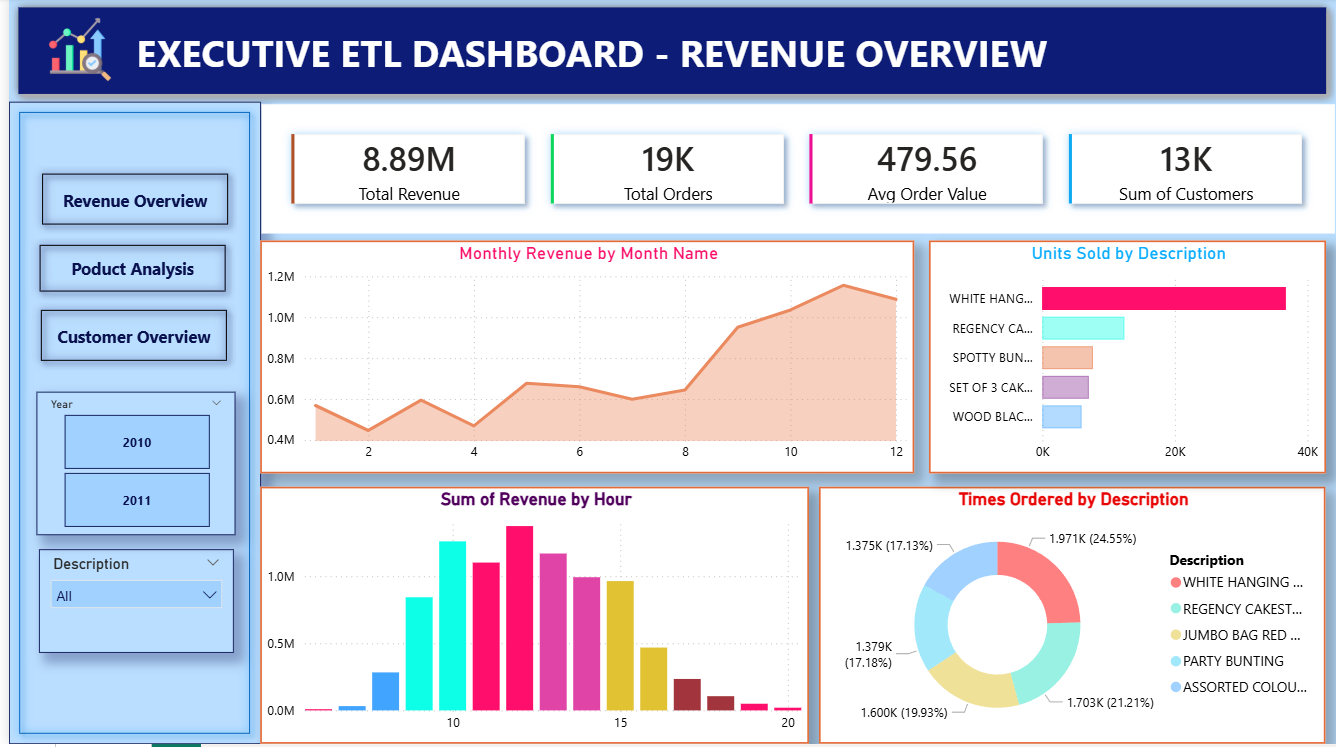

What the dashboard file says about the page in this screenshot:
{"tool":"powerbi","page":{"name":"Page 1","canvas":[1280,720],"ordinal":0},"visuals":[{"type":"shape","box":[0,100.2,242.9,620.2],"z":0},{"type":"shape","box":[0,0,1280.3,101.6],"z":1000},{"type":"cardVisual","fields":{"Data":["Q1_Monthly.Total Revenue","Q1_Monthly.Total Orders","Q1_Monthly.Avg Order Value","Sum(Q1_Monthly.Customers)"]},"box":[243.2,102.3,1036.4,125],"z":2000},{"type":"areaChart","title":" Monthly Revenue by Month Name","fields":{"Category":["Q1_Monthly.Month"],"Y":["Sum(Q1_Monthly.Monthly_Revenue)"]},"box":[242.9,234.6,631.2,225],"z":3000},{"type":"clusteredColumnChart","fields":{"Y":["Sum(Q5_Hourly.Revenue)"],"Category":["Q5_Hourly.Hour"]},"box":[242.9,472,529.7,248.4],"z":4000},{"type":"donutChart","title":" Times Ordered by Description","fields":{"Category":["Q3_Products.Description"],"Y":["Sum(Q3_Products.Times_Ordered)"]},"box":[782.2,472,488.5,248.4],"z":5000},{"type":"clusteredBarChart","title":"Units Sold by Description","fields":{"Category":["Q3_Products.Description"],"Y":["Sum(Q3_Products.Units_Sold)"]},"box":[887.8,234.6,382.8,225],"z":6000},{"type":"shape","box":[23.3,160.5,197.6,67.2],"z":7000},{"type":"shape","box":[20.6,229.2,197.6,63.1],"z":8000},{"type":"shape","box":[22,292.3,197.6,67.2],"z":9000},{"type":"shape","box":[123.5,19.2,964.7,64.5],"z":10000},{"type":"slicer","fields":{"Values":["Q1_Monthly.Year"]},"box":[26.1,380.1,192.1,138.6],"z":11000},{"type":"slicer","fields":{"Values":["Q3_Products.Description"]},"box":[28.8,532.4,188,100.2],"z":12000},{"type":"image","box":[28.8,17.8,79.6,63.1],"z":12001}]}

Visuals, with their boxes in screenshot pixels (x1, y1, x2, y2), scaled from the page's 1280x720 canvas onto the 1336x747 screenshot:
shape: 0:104:254:746
shape: 0:0:1335:105
cardVisual - Q1_Monthly.Total Revenue x Q1_Monthly.Total Orders: 254:106:1335:236
" Monthly Revenue by Month Name" areaChart: 254:243:912:477
clusteredColumnChart - Sum(Q5_Hourly.Revenue) x Q5_Hourly.Hour: 254:490:806:746
" Times Ordered by Description" donutChart: 816:490:1326:746
"Units Sold by Description" clusteredBarChart: 927:243:1326:477
shape: 24:167:231:236
shape: 22:238:228:303
shape: 23:303:229:373
shape: 129:20:1136:87
slicer - Q1_Monthly.Year: 27:394:228:538
slicer - Q3_Products.Description: 30:552:226:656
image: 30:18:113:84
